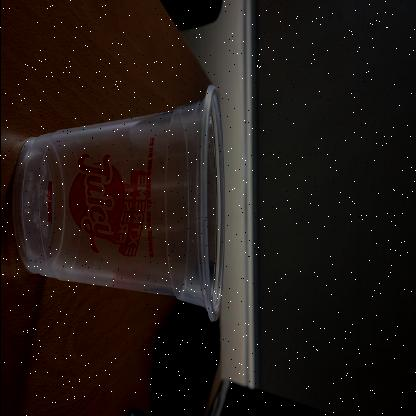Others: (11, 84, 224, 322)
